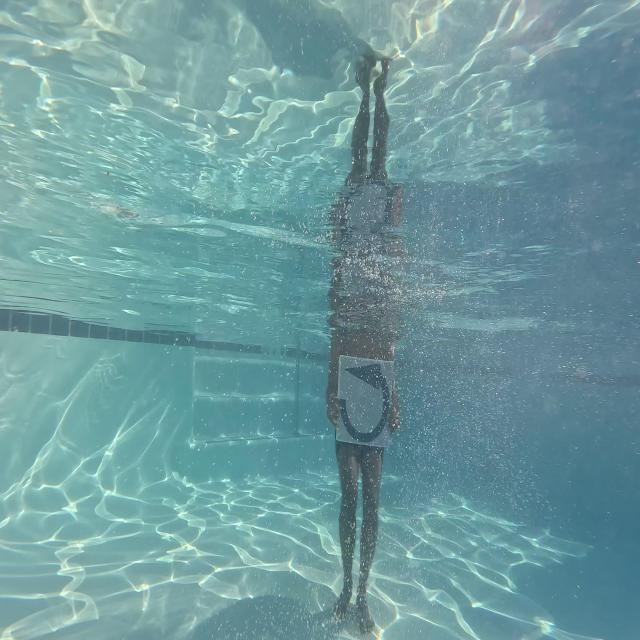blue_side: (335, 350, 395, 444)
